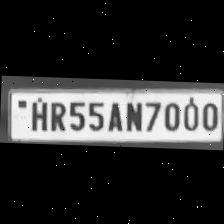0: (158, 97, 182, 130), (197, 97, 219, 130), (180, 97, 200, 128)
5: (64, 96, 86, 130), (84, 96, 106, 130)
7: (140, 96, 160, 130)
A: (104, 97, 124, 131)
H: (25, 96, 47, 130)
N: (121, 96, 143, 131)
R: (46, 97, 66, 131)
